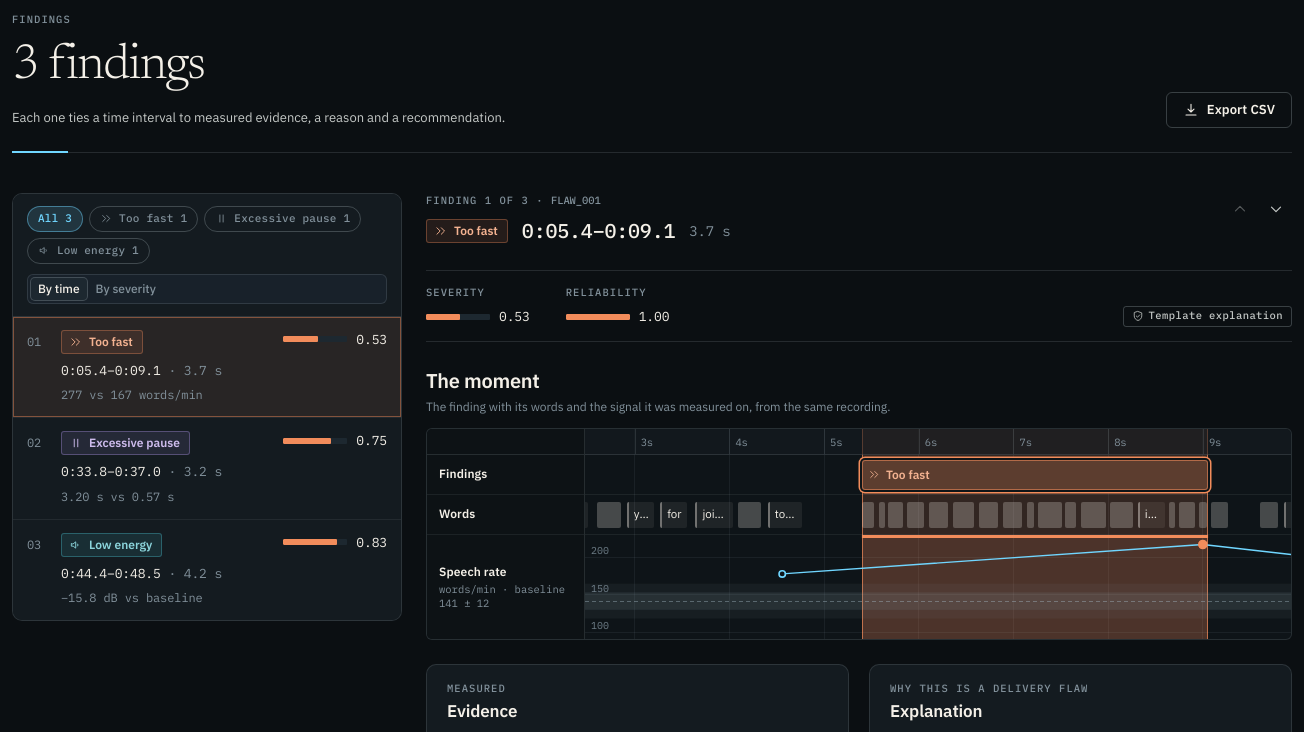
Scenario: FlawsPage › filters the list by type and says how many of each there are
The image size is (1304, 732).
Click the button "Excessive pause 1" at (283, 219), box [204,206,361,232]
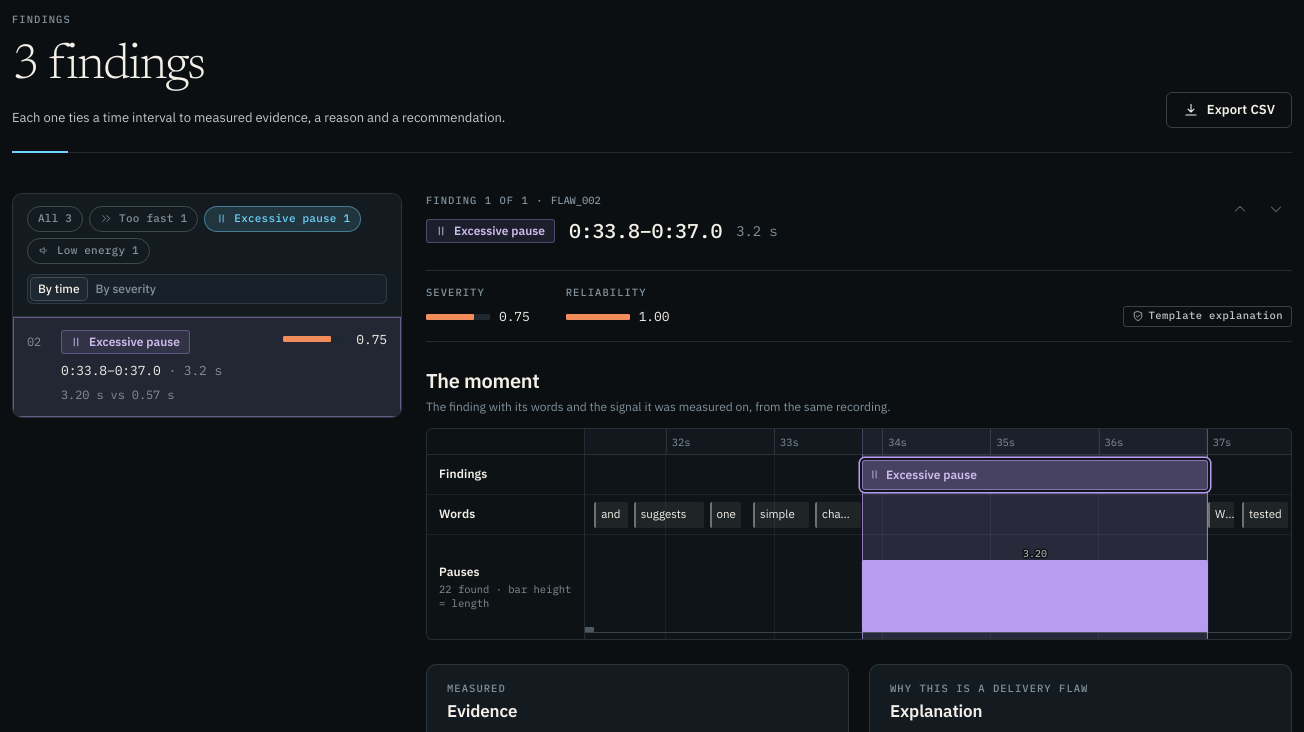
Expected: the option shows "Excessive pause", [13,317,401,417]
Expected: the number of options is 1, [13,317,401,417]
Click the button "All 3" at (55, 219), box [27,206,83,232]
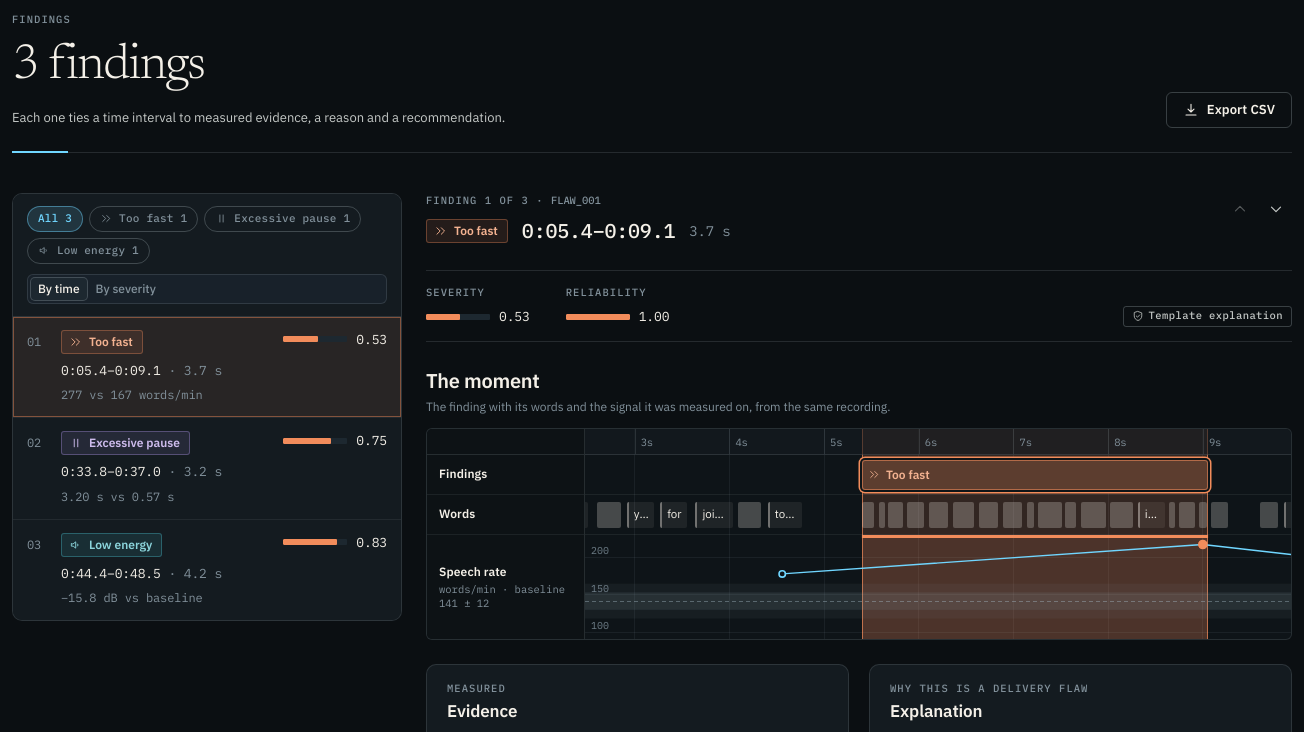
Expected: the number of options is 3, [13,317,401,417]; [13,417,401,519]; [13,519,401,620]
